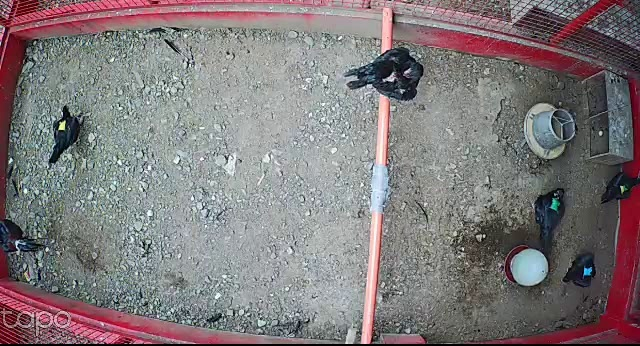Chicken: (342, 46, 426, 106), (530, 187, 570, 258), (48, 104, 85, 164), (600, 170, 640, 211), (560, 250, 599, 289)
Saddle_Color_Blue: (583, 266, 595, 277)
Saddle_Color_Yellow: (58, 119, 68, 131)
Saddle_Color_YellowGreen: (621, 184, 628, 194)
